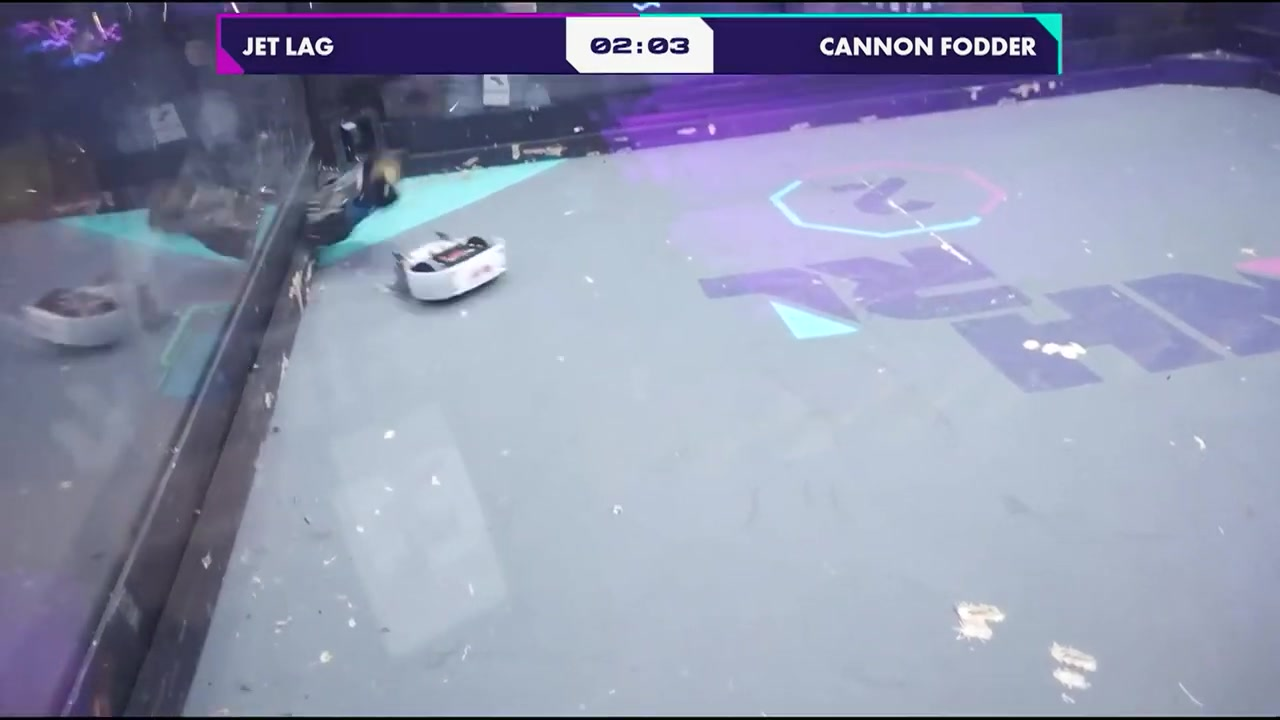combatbot: (302, 158, 401, 246), (393, 234, 512, 303)
